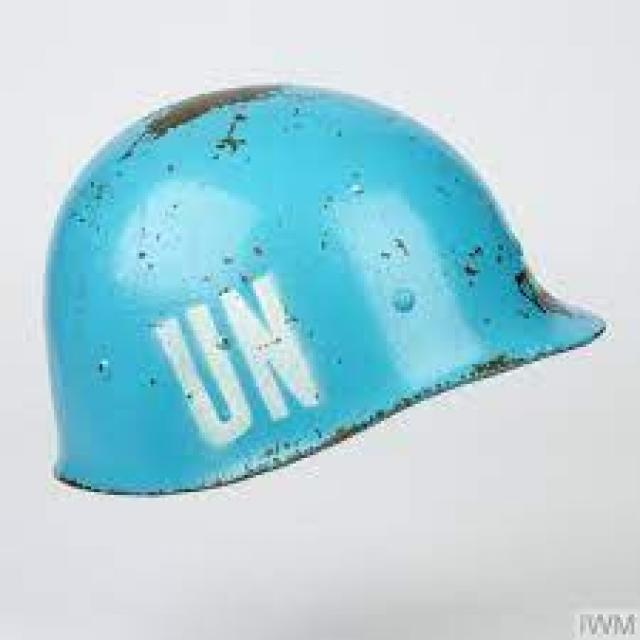Safety-Helmet: (6, 71, 603, 492)
